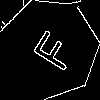F: (23, 23, 78, 74)
